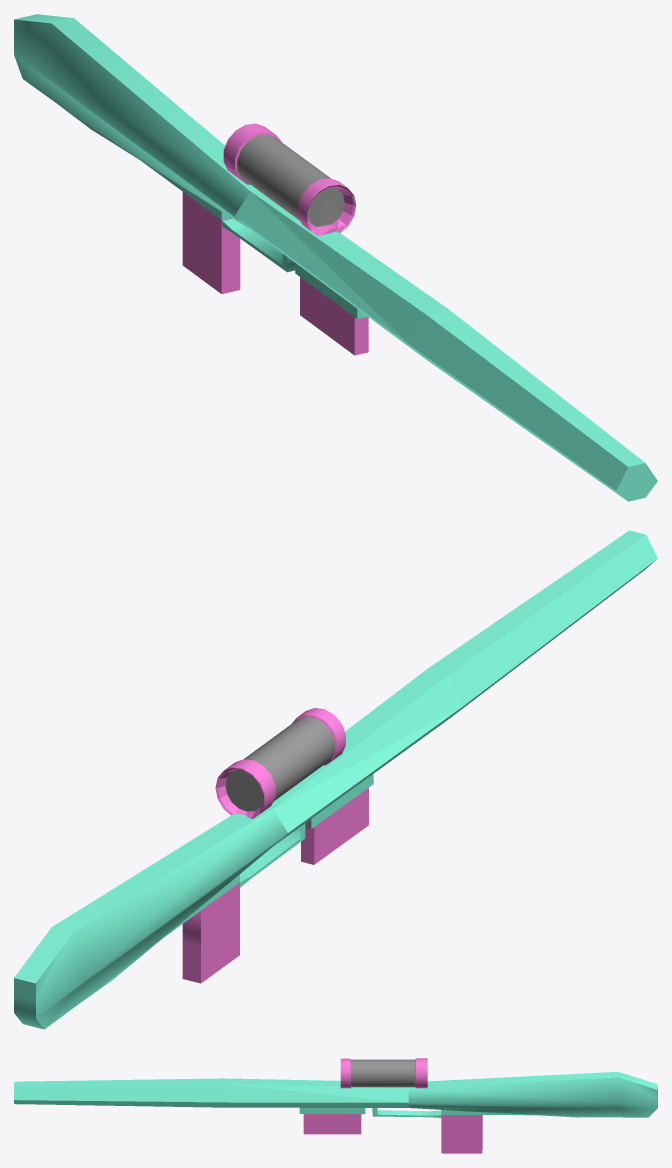
The model's file is SniperDeBase.FBX.
3 renders of one model, top to bottom at view 1: azimuth 30°, elevation 25°; view 2: azimuth 150°, elevation 25°; view 3: azimuth 270°, elevation 25°, orthographic. The views are drawn at different scales.
Visible parts, largest first — view 1: Box026; view 2: Box026; view 3: Box026.
Boxes of the visible parts, <box> form: Box026: <box>14,14,657,501</box>; Box026: <box>14,530,657,1029</box>; Box026: <box>14,1058,657,1153</box>.
Size of the model in its own units: 69.77 by 206 by 1301.
